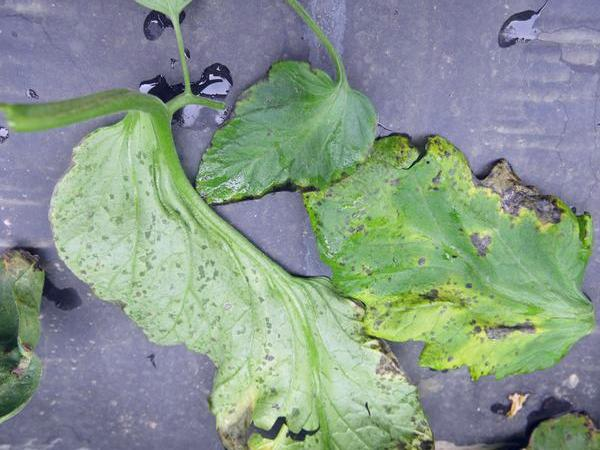Tomato leaf bacterial spot: (291, 136, 596, 368)
